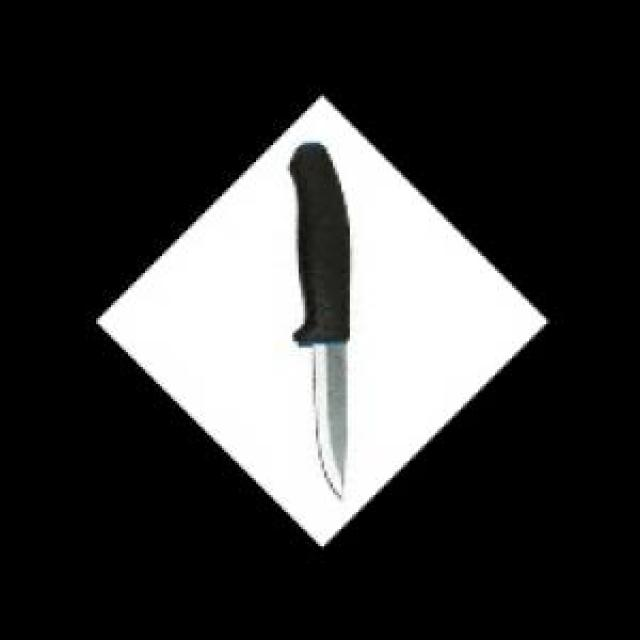knife: (288, 132, 354, 513)
